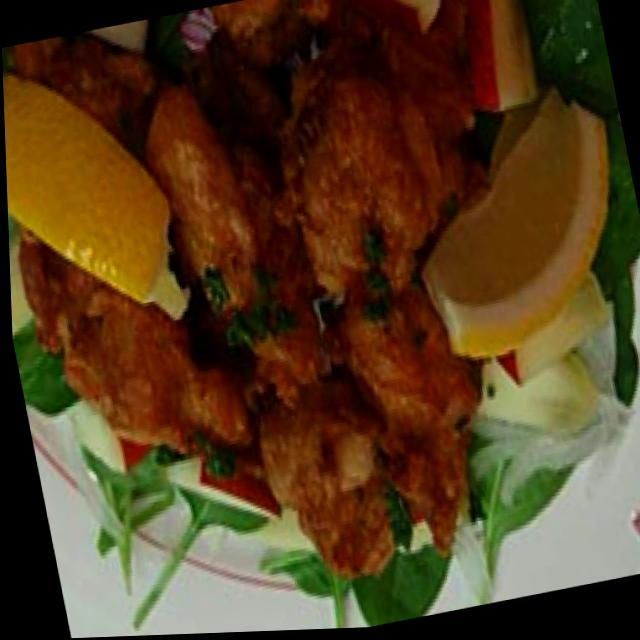鸡肉料理 含炸鸡: (0, 0, 635, 640)
